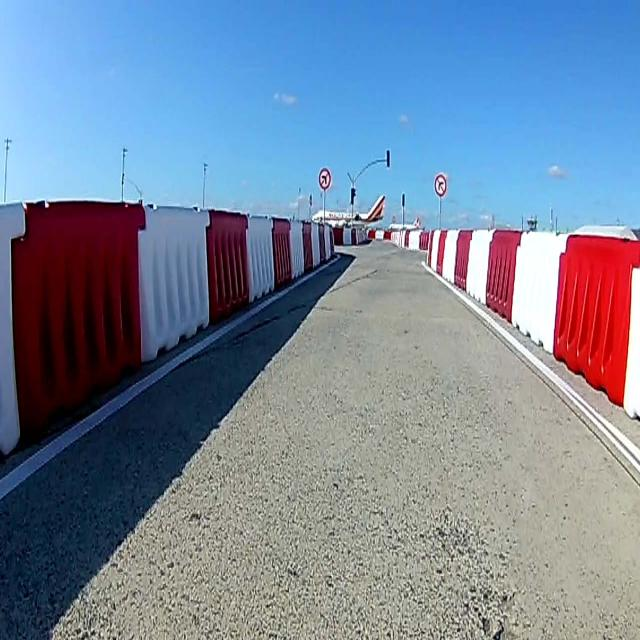sagadonulmez: (434, 173, 446, 199)
soladonulmez: (318, 165, 331, 188)
